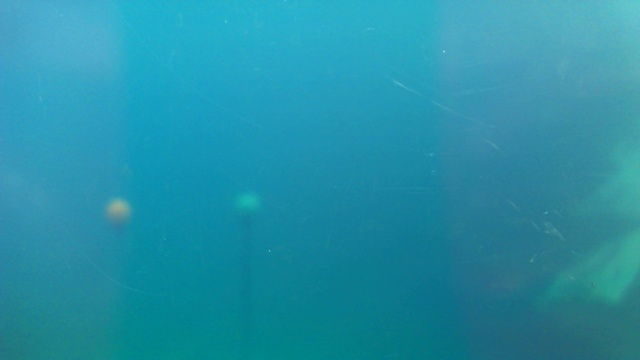buoy_green: (234, 189, 261, 227)
buoy_red: (107, 199, 127, 229)
